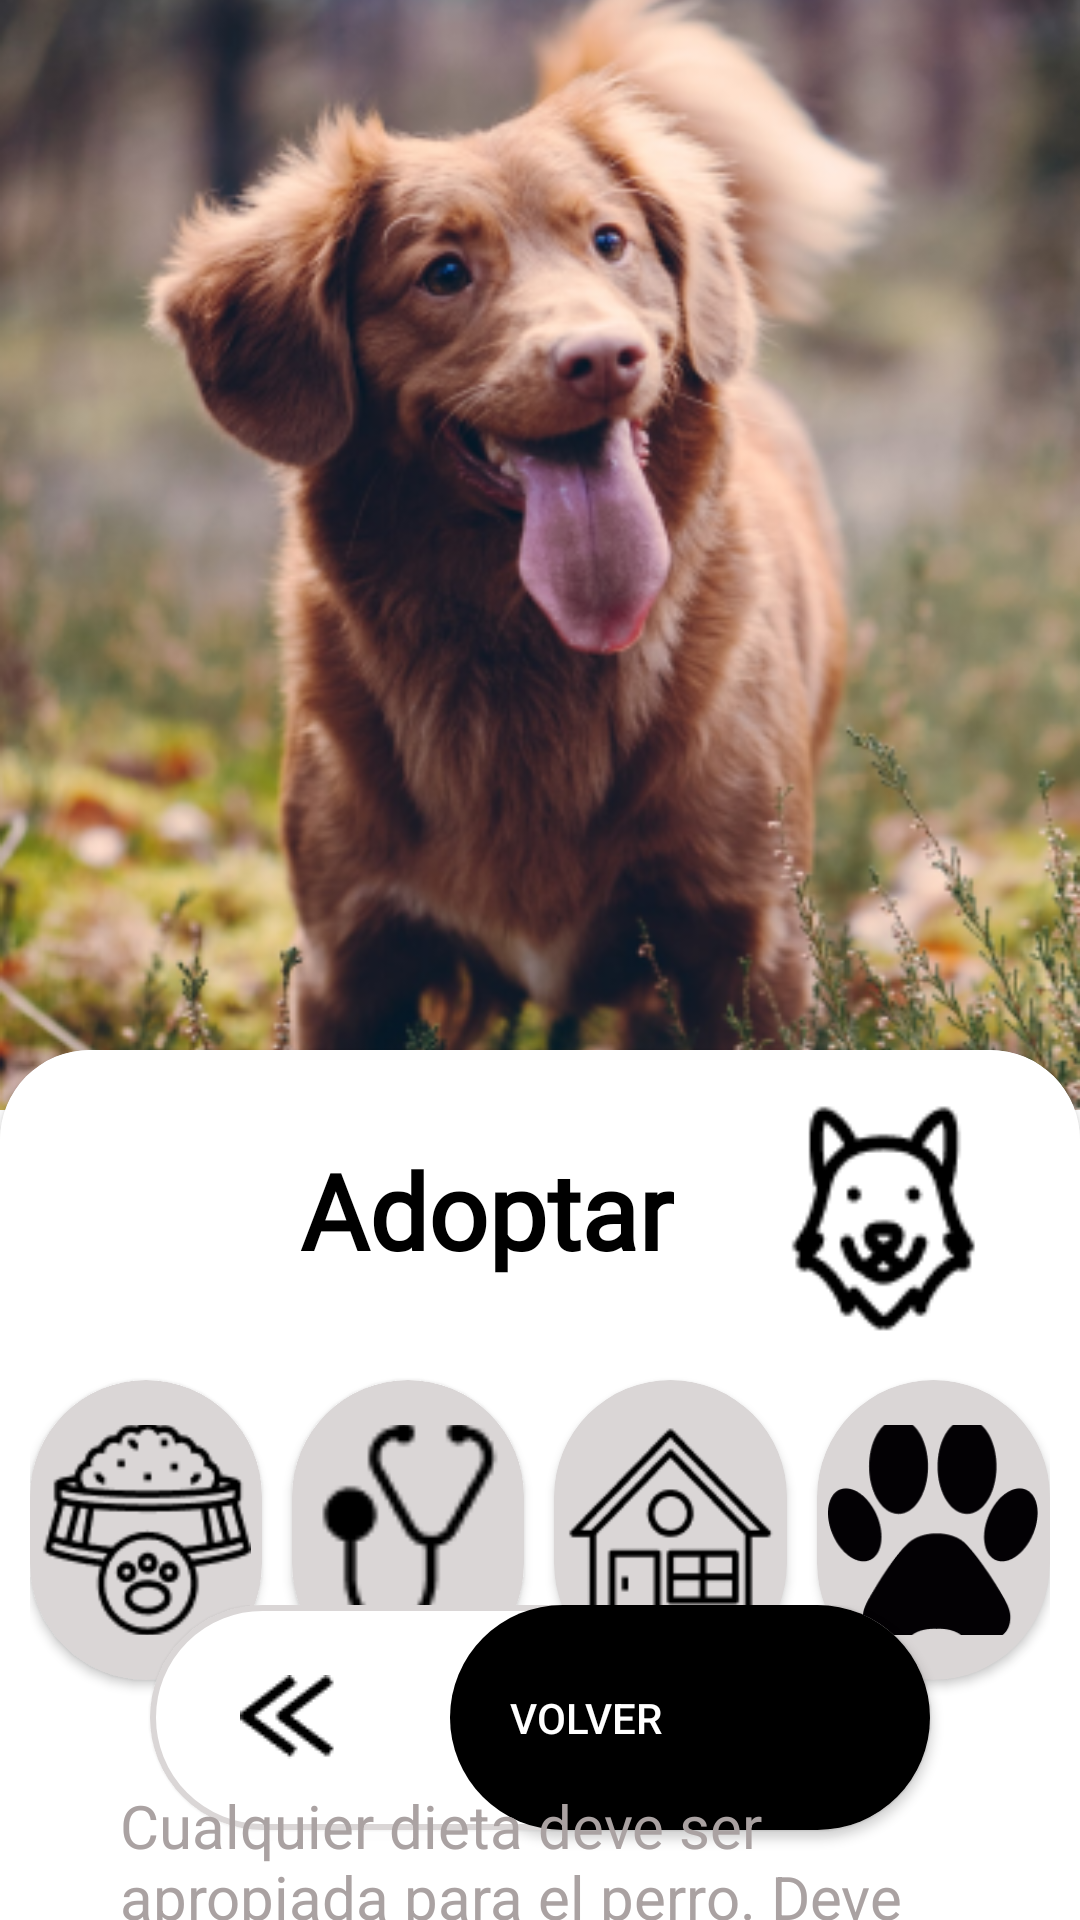

Named icons in this screenshot (1080x1920) and their centers, point (x, y):
aliment: point (147, 1530)
house: point (670, 1530)
paw: point (933, 1493)
salud: point (408, 1530)
